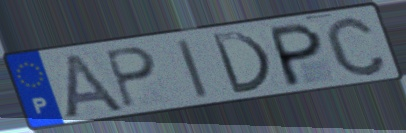A: (61, 50, 128, 121)
C: (321, 14, 390, 79)
D: (208, 30, 274, 96)
I: (174, 36, 212, 100)
P: (268, 20, 325, 89), (101, 45, 159, 111)
